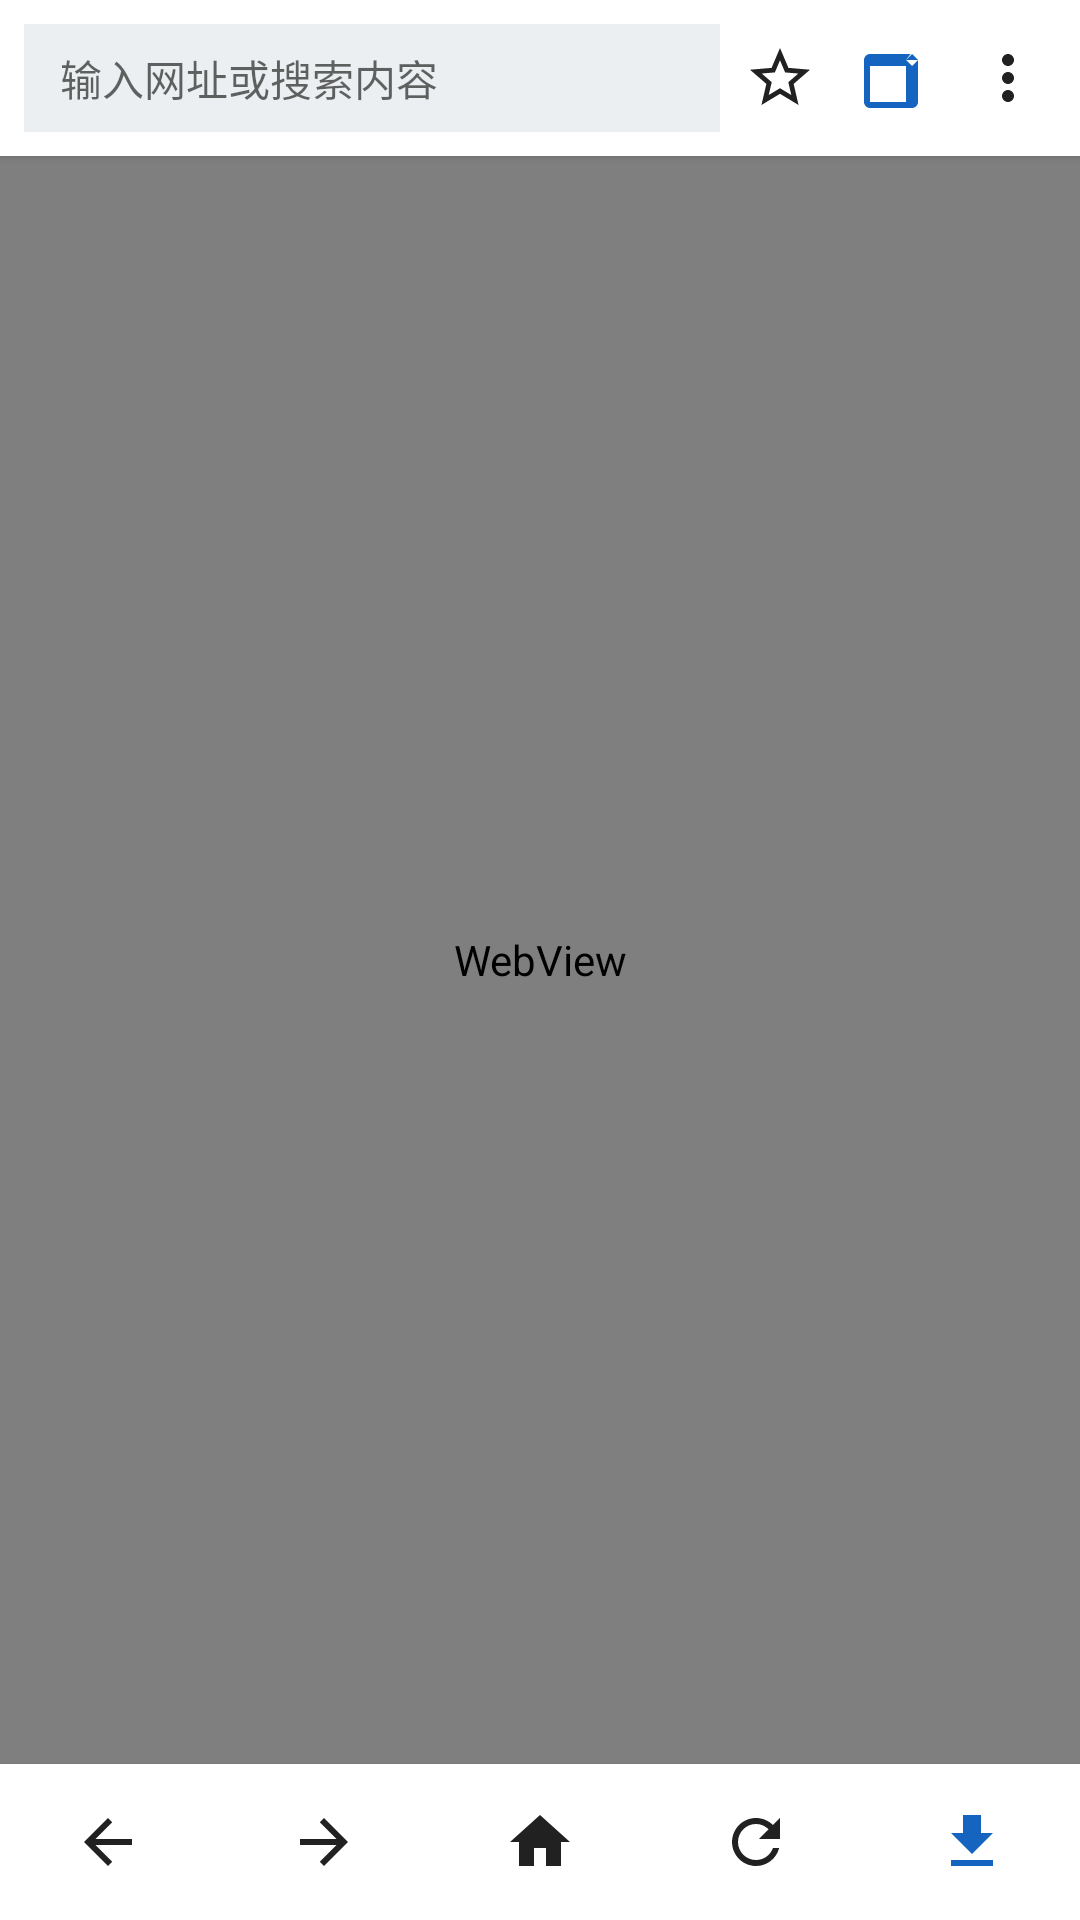

Named icons in this screenshot (1080w x 1920h) and their centers, (x,y):
下载管理: (972,1840)
主页: (540,1840)
刷新: (756,1842)
前进: (324,1842)
后退: (108,1842)
收藏: (780,76)
更多: (1008,78)
